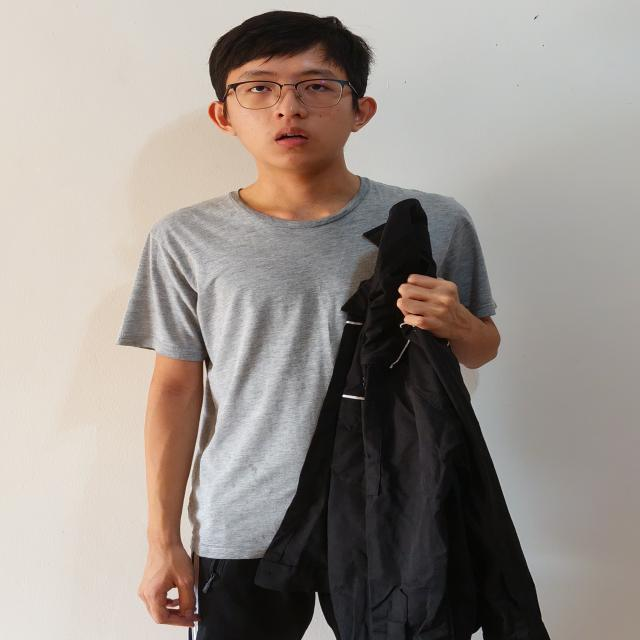person_without_labcoat: (118, 12, 500, 640)
